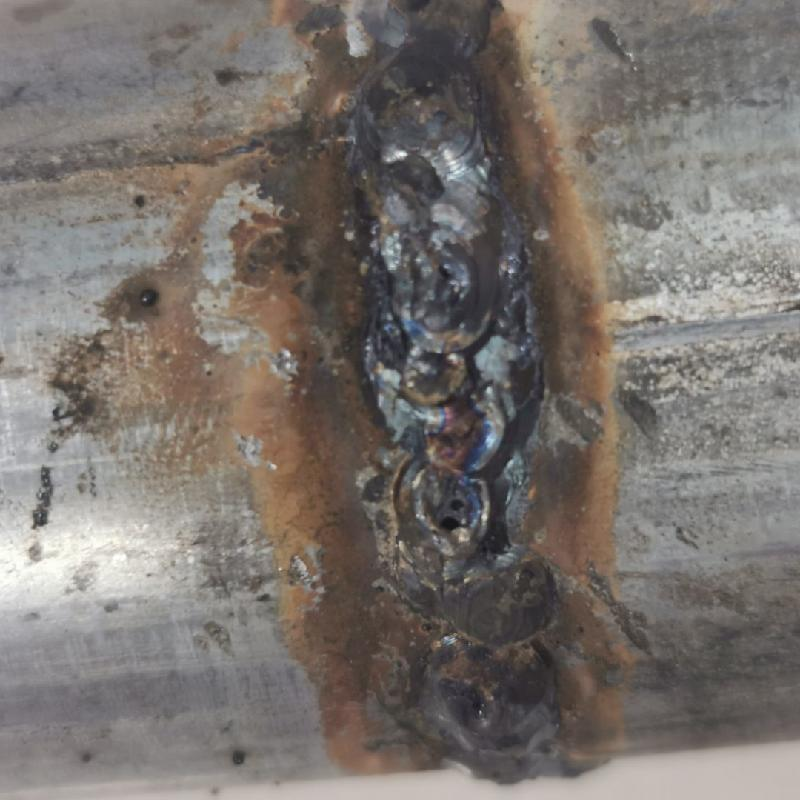Surface_pores: (450, 671, 499, 735), (428, 485, 473, 534)
crater: (365, 226, 538, 546)
wrong_size: (395, 556, 570, 785), (341, 0, 501, 222)
